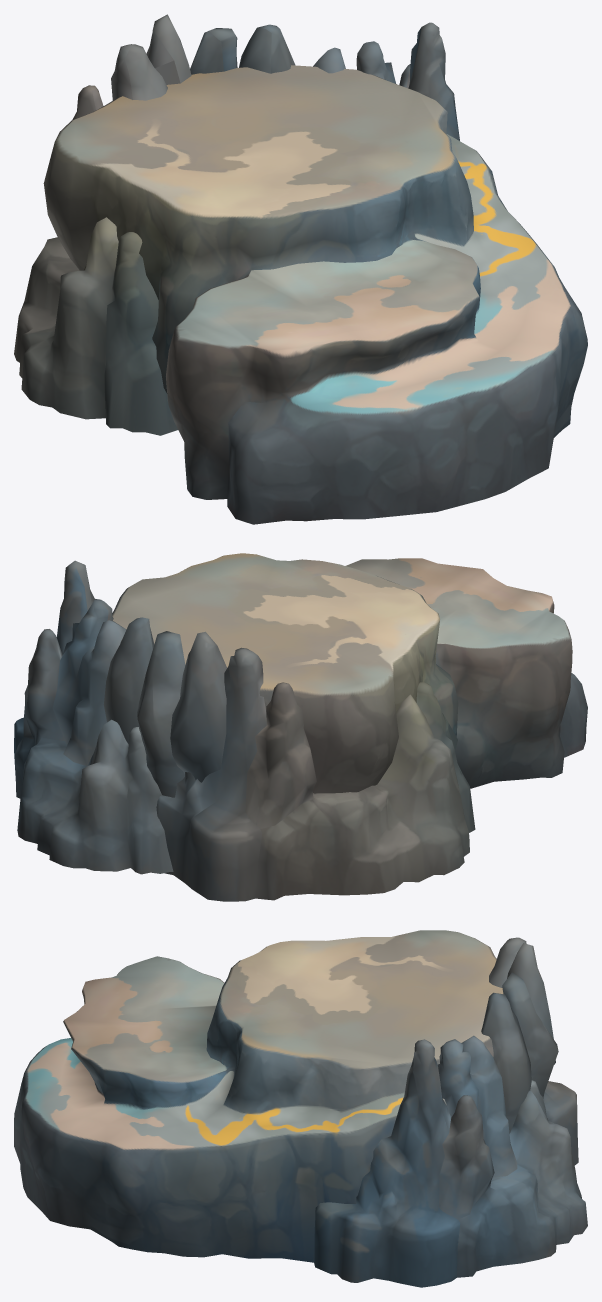
Rendered from terrain_stage07.FBX.
3 renders of one model, top to bottom at view 1: azimuth 30°, elevation 25°; view 2: azimuth 150°, elevation 25°; view 3: azimuth 270°, elevation 25°, orthographic. The views are drawn at different scales.
Visible parts, largest first — view 1: terrain_stage07; view 2: terrain_stage07; view 3: terrain_stage07.
Boxes of the visible parts, x1,y1,x2,y2 form: terrain_stage07: [14, 14, 587, 524]; terrain_stage07: [14, 553, 587, 901]; terrain_stage07: [14, 930, 587, 1287].
Size of the model in its own units: 9881 by 5323 by 11833.
